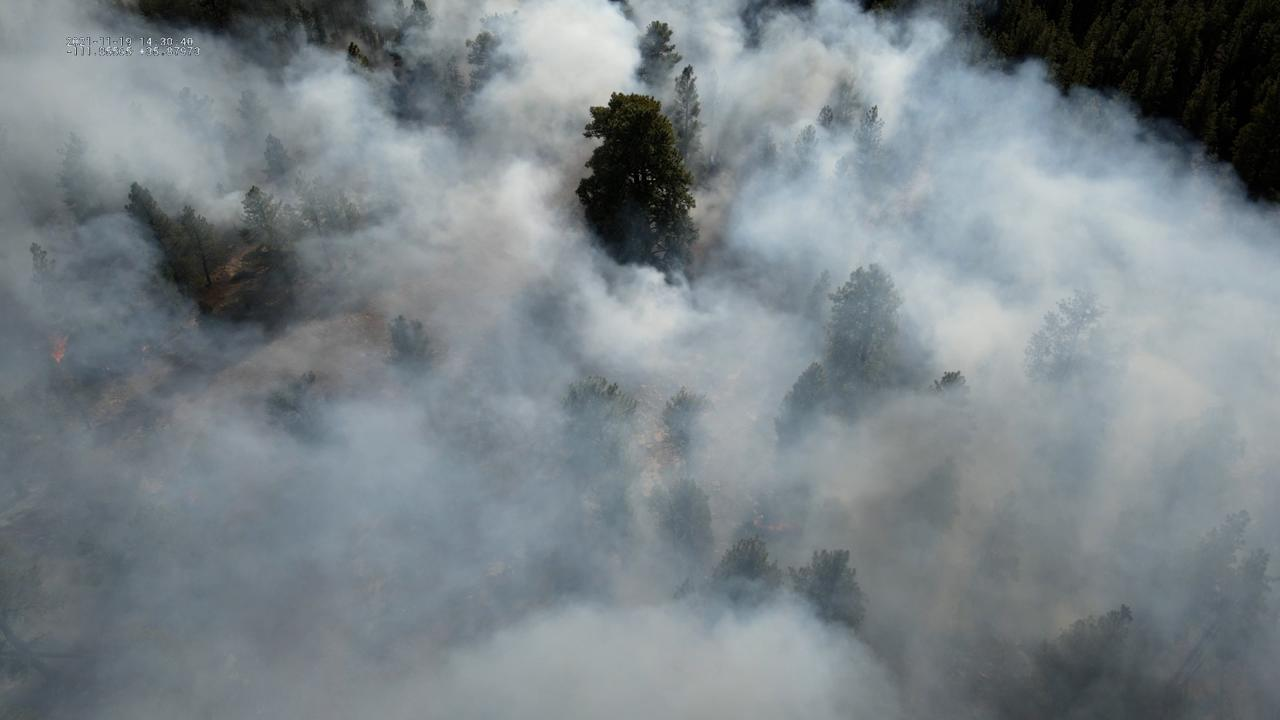fire: (46, 330, 69, 365)
smoke: (0, 0, 1280, 720)
